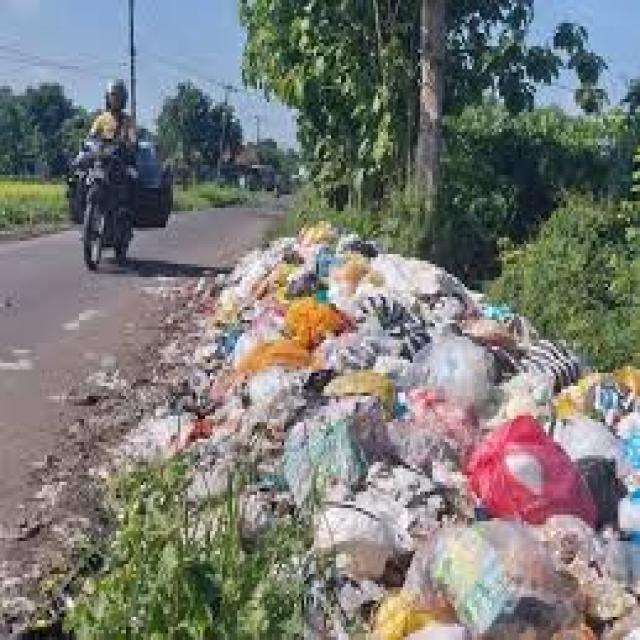trash: (240, 230, 634, 640)
